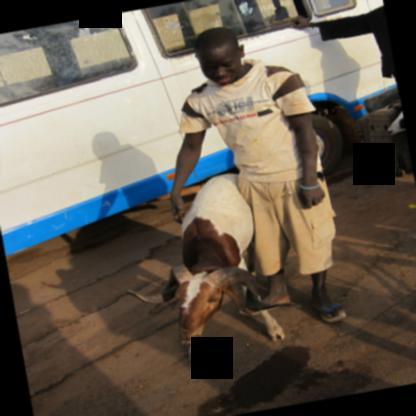suitcase: (360, 100, 413, 179)
